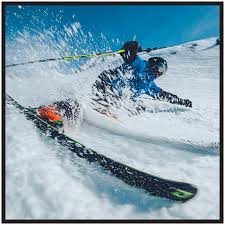skis: (1, 91, 199, 206)
